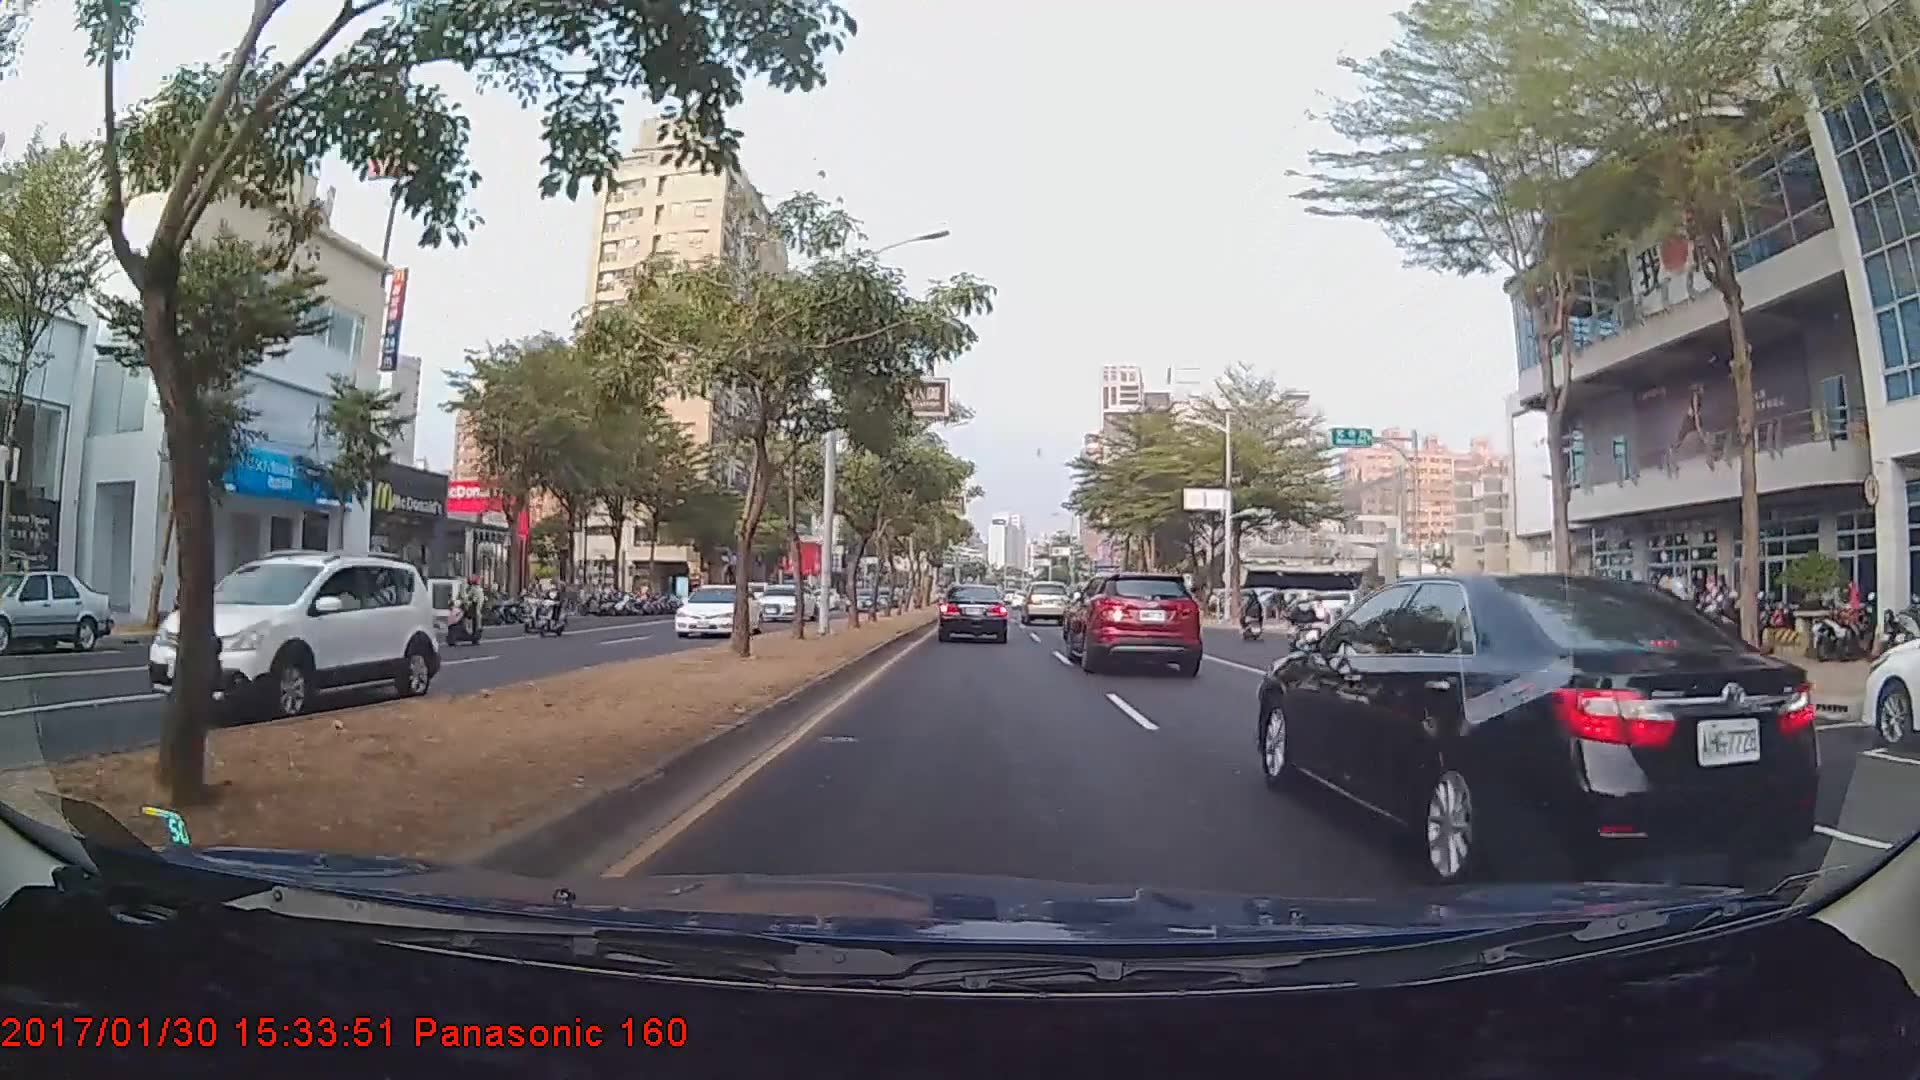vehicle: (1251, 556, 1791, 881), (146, 549, 443, 719), (1065, 568, 1203, 674), (0, 570, 112, 654), (1863, 613, 1920, 750), (671, 582, 764, 637), (938, 583, 1009, 644), (750, 580, 819, 622), (1019, 579, 1069, 625)
